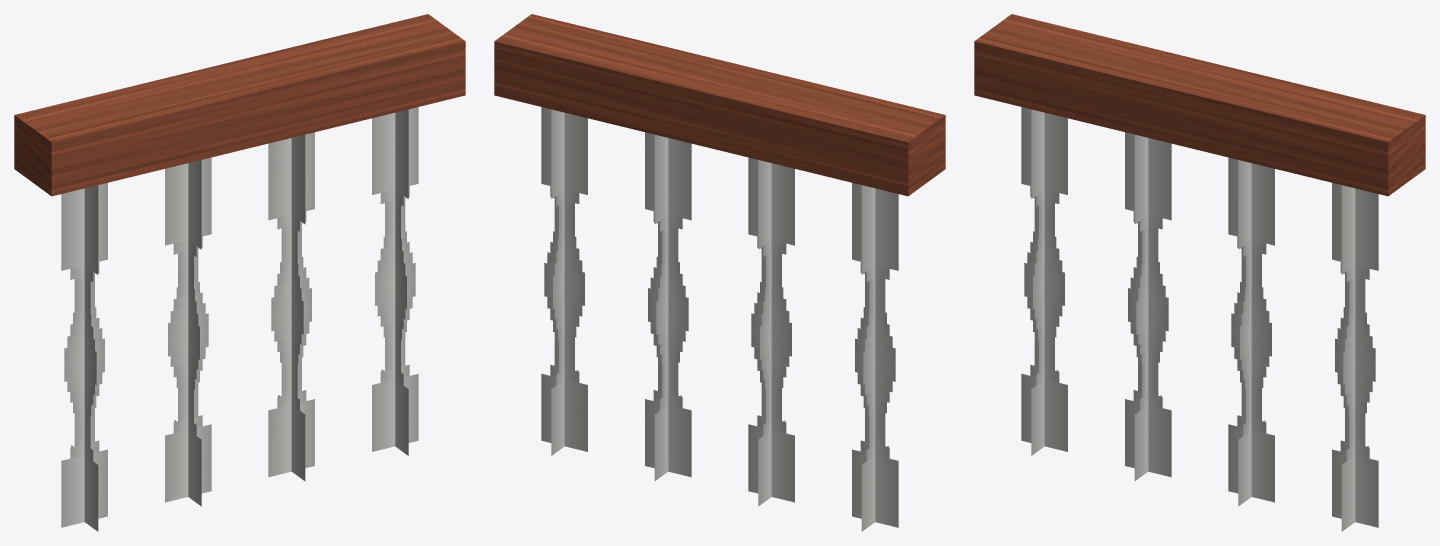
Rendered from level.obj.
3 renders of one model, left to right at view 1: azimuth 30°, elevation 25°; view 2: azimuth 150°, elevation 25°; view 3: azimuth 330°, elevation 25°, orthographic.
Visible parts, largest first — view 1: railing_turned_cherry_level; view 2: railing_turned_cherry_level; view 3: railing_turned_cherry_level.
Part boxes in pixels (box(x1,y1,x2,y2)): railing_turned_cherry_level: box(14, 14, 465, 531); railing_turned_cherry_level: box(494, 14, 945, 531); railing_turned_cherry_level: box(974, 14, 1425, 531).
Size of the model in its own units: 1 by 0.9375 by 0.1562.
